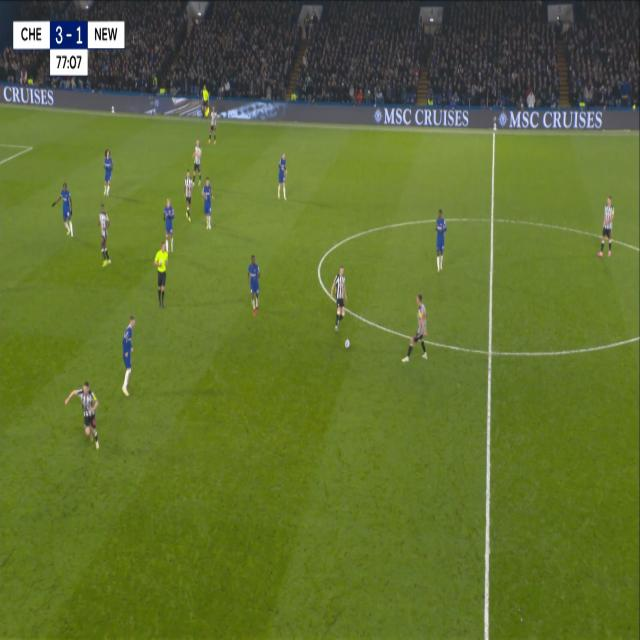Ball: (343, 336, 351, 349)
Chelsea: (118, 310, 138, 399), (51, 176, 76, 241), (245, 250, 263, 318), (432, 204, 449, 274), (275, 146, 289, 206), (162, 196, 176, 256), (200, 176, 214, 231), (101, 144, 112, 199)
New castle: (63, 376, 103, 454), (400, 292, 429, 368), (328, 260, 351, 336), (597, 192, 617, 260), (94, 198, 112, 270), (191, 137, 204, 188), (182, 169, 194, 222), (208, 107, 220, 149)
Refree: (152, 236, 171, 310)
